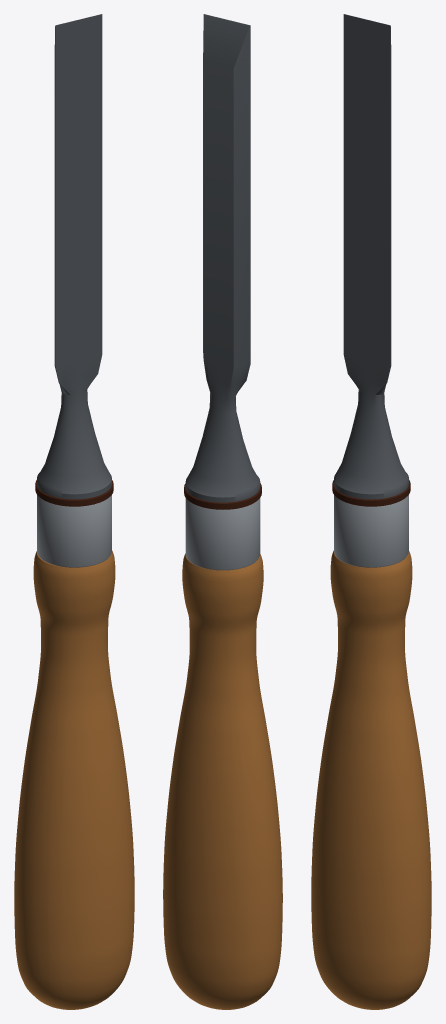
3 views of the same model, side by side, from view 1: azimuth 30°, elevation 25°; view 2: azimuth 150°, elevation 25°; view 3: azimuth 330°, elevation 25° (orthographic).
Visible parts, largest first — view 1: part_002_Contoured_wooden_handle, part_005_Blade_tang_and_bolster, part_003_Blade_tang_and_bolster, part_000_Reinforcing_ferrule, part_001_Leather_shock_washer; view 2: part_002_Contoured_wooden_handle, part_003_Blade_tang_and_bolster, part_000_Reinforcing_ferrule, part_004_Blade_tang_and_bolster, part_001_Leather_shock_washer; view 3: part_002_Contoured_wooden_handle, part_005_Blade_tang_and_bolster, part_003_Blade_tang_and_bolster, part_000_Reinforcing_ferrule, part_001_Leather_shock_washer.
Part boxes in pixels (bbox=[...]): part_002_Contoured_wooden_handle: bbox=[14, 550, 134, 1009]; part_005_Blade_tang_and_bolster: bbox=[55, 14, 102, 383]; part_003_Blade_tang_and_bolster: bbox=[37, 26, 111, 499]; part_000_Reinforcing_ferrule: bbox=[37, 495, 111, 567]; part_001_Leather_shock_washer: bbox=[35, 480, 113, 506]; part_002_Contoured_wooden_handle: bbox=[163, 553, 282, 1009]; part_003_Blade_tang_and_bolster: bbox=[185, 33, 260, 502]; part_000_Reinforcing_ferrule: bbox=[185, 498, 260, 570]; part_004_Blade_tang_and_bolster: bbox=[203, 14, 250, 68]; part_001_Leather_shock_washer: bbox=[184, 483, 261, 509]; part_002_Contoured_wooden_handle: bbox=[311, 550, 431, 1009]; part_005_Blade_tang_and_bolster: bbox=[343, 14, 390, 383]; part_003_Blade_tang_and_bolster: bbox=[334, 26, 408, 499]; part_000_Reinforcing_ferrule: bbox=[334, 495, 408, 567]; part_001_Leather_shock_washer: bbox=[332, 480, 410, 506].
Size of the model in its own units: 0.0304 by 0.264 by 0.0256.
